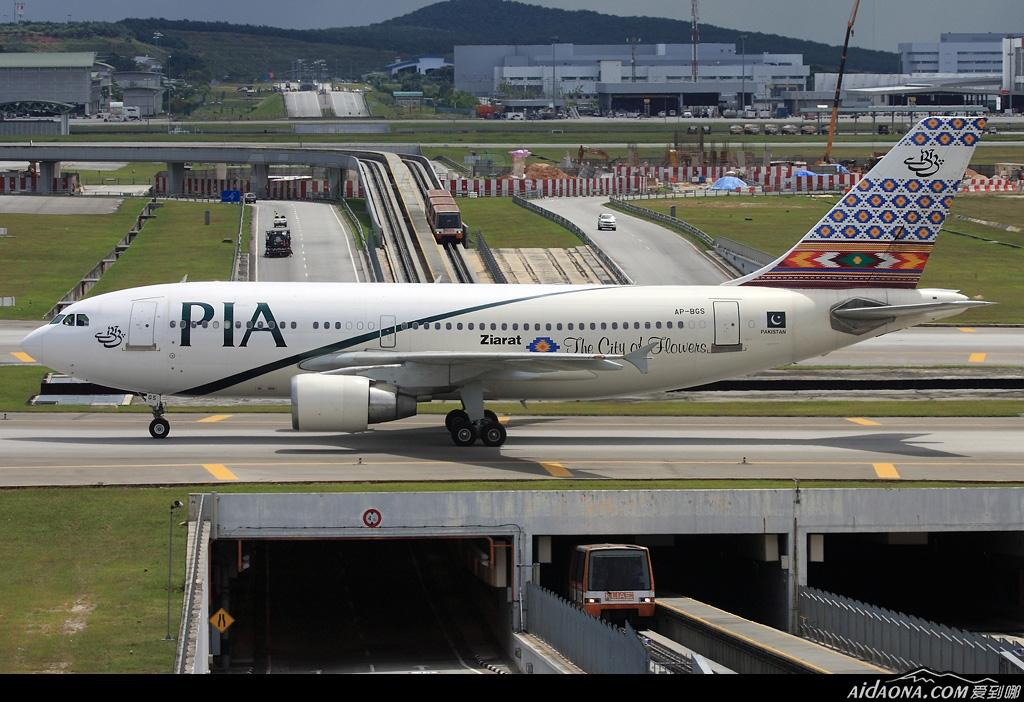airplane: (17, 115, 1010, 418)
